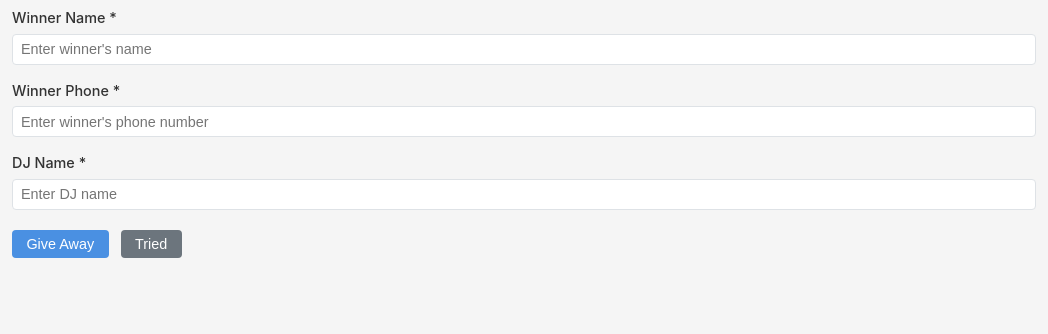
Test: PassGiveawayForm › Giveaway Form Validation › should show validation error when recipient name is empty
Click the button "Give Away". click: (60, 244)
box: [12,230,108,258]
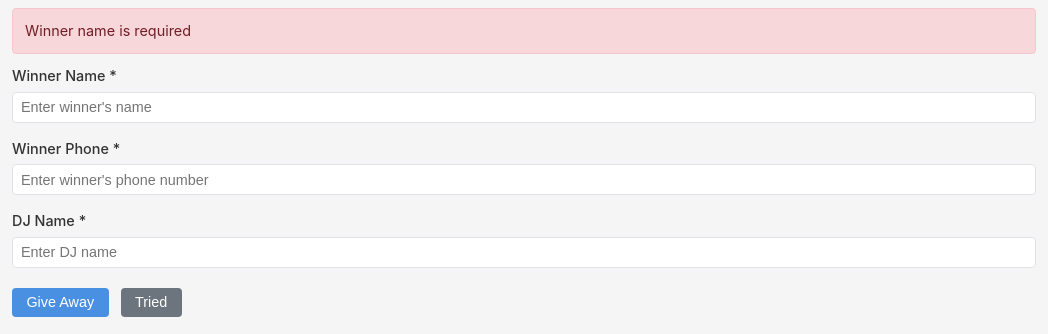
Expected: the text "Winner name is required" is shown, [12,8,1036,54]
